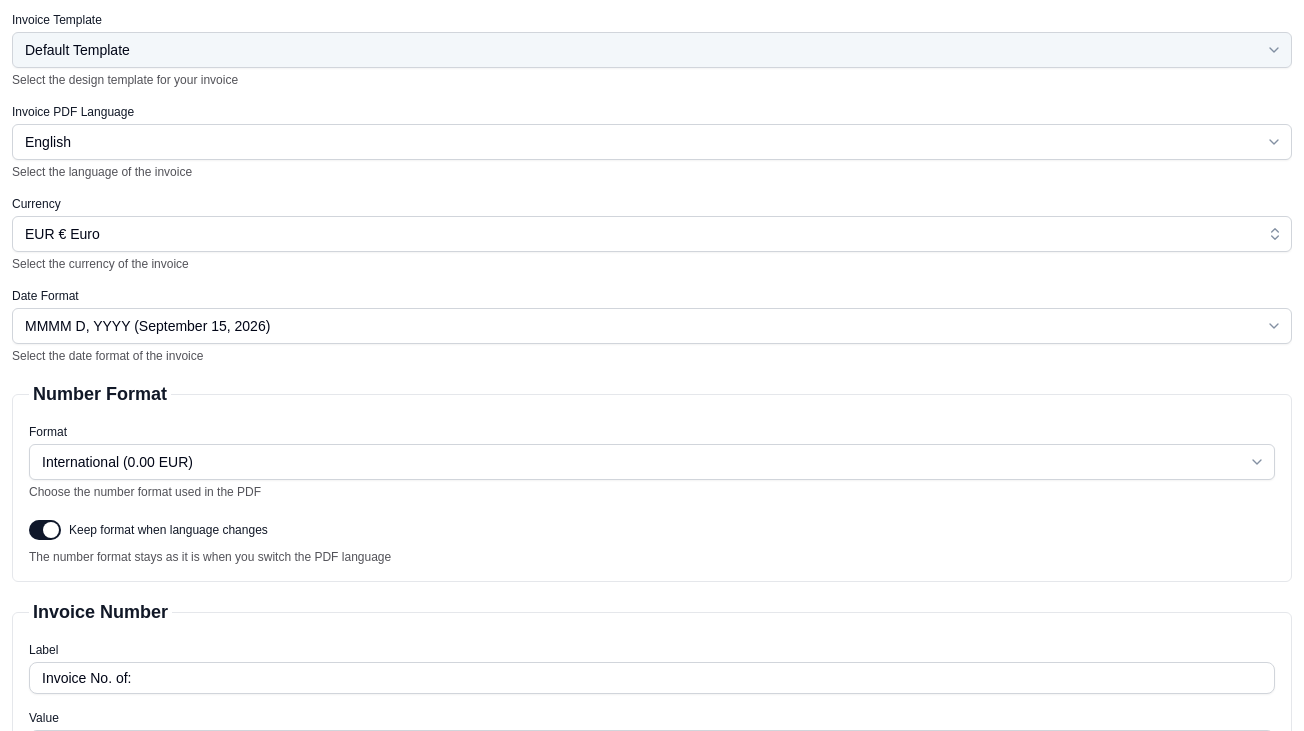
Scenario: GeneralInformation date helper texts › "Keep format when language changes" switch › still moves the labels when the format is pinned
Select "Polish" in the dropdown labelled "Invoice PDF Language": {"x": 652, "y": 142} x1=12 y1=124 x2=1292 y2=160
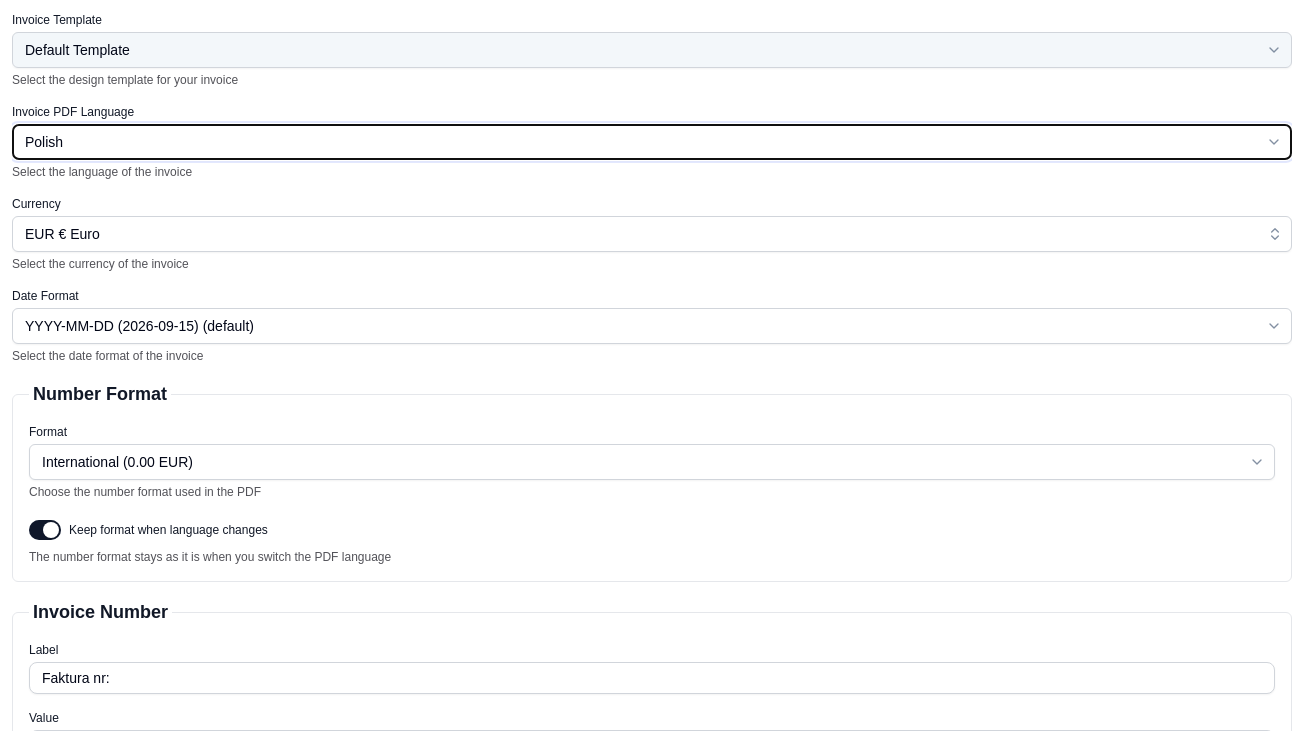
Expected: the dropdown labelled "Format" shows "International (0.00 EUR)", x1=29 y1=444 x2=1275 y2=480
Result: the field labelled "Label" holds "Faktura nr:" at x1=29 y1=662 x2=1275 y2=694
